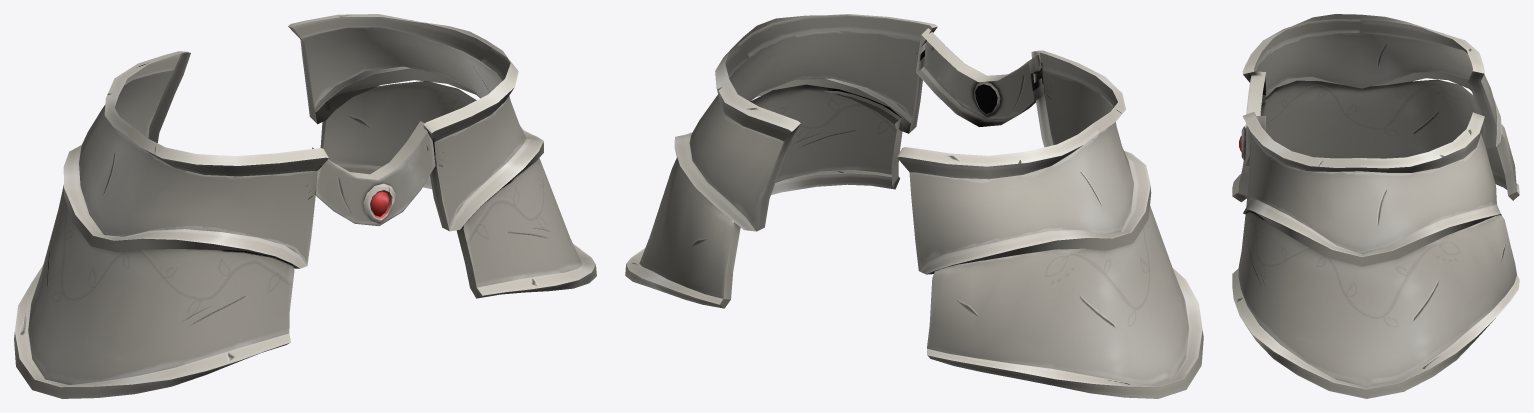
Rendered from armorthigh.glb.
The picture shows the model from 3 angles, left to right: view 1: azimuth 30°, elevation 25°; view 2: azimuth 150°, elevation 25°; view 3: azimuth 270°, elevation 25°; orthographic projection. The views are drawn at different scales.
Visible parts, largest first — view 1: armorthigh; view 2: armorthigh; view 3: armorthigh.
Boxes of the visible parts, bbox=[...] form: armorthigh: bbox=[14, 14, 596, 398]; armorthigh: bbox=[625, 14, 1203, 398]; armorthigh: bbox=[1232, 14, 1519, 398].
Size of the model in its own units: 0.6855 by 0.2906 by 0.3753.
1 material, 1 textured.
